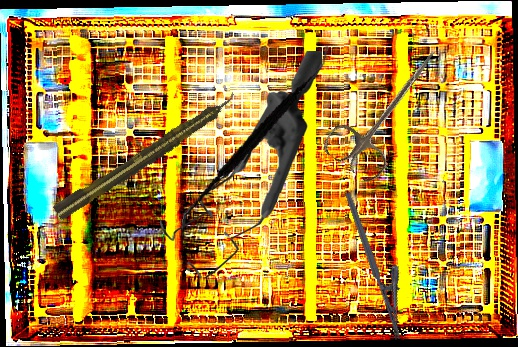Handpiece: (51, 88, 242, 223)
Iris Scissors: (319, 30, 458, 187)
Needle Holder: (344, 185, 421, 341)
Spatula Surgical: (179, 26, 331, 257)
Speculum: (159, 48, 322, 281)
